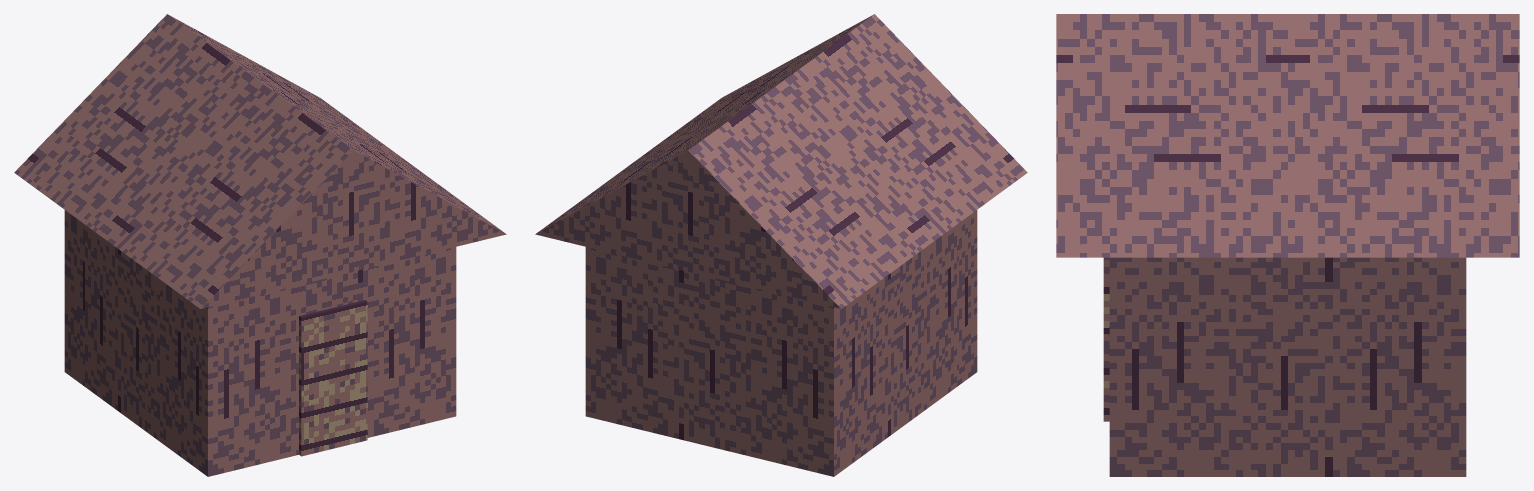
Rendered from pinhal_do_norte_sauna.glb.
3 renders of one model, left to right at view 1: azimuth 30°, elevation 25°; view 2: azimuth 150°, elevation 25°; view 3: azimuth 270°, elevation 25°, orthographic. The views are drawn at different scales.
Parts seen in each view (by area): view 1: pinhal_do_norte_sauna; view 2: pinhal_do_norte_sauna; view 3: pinhal_do_norte_sauna.
Part boxes in pixels (left/top/right/bottom): pinhal_do_norte_sauna: left=14, top=14, right=506, bottom=476; pinhal_do_norte_sauna: left=535, top=14, right=1027, bottom=476; pinhal_do_norte_sauna: left=1056, top=14, right=1519, bottom=476.
Size of the model in its own units: 3.7 by 3.6 by 3.9.
2 materials, 2 textured.
